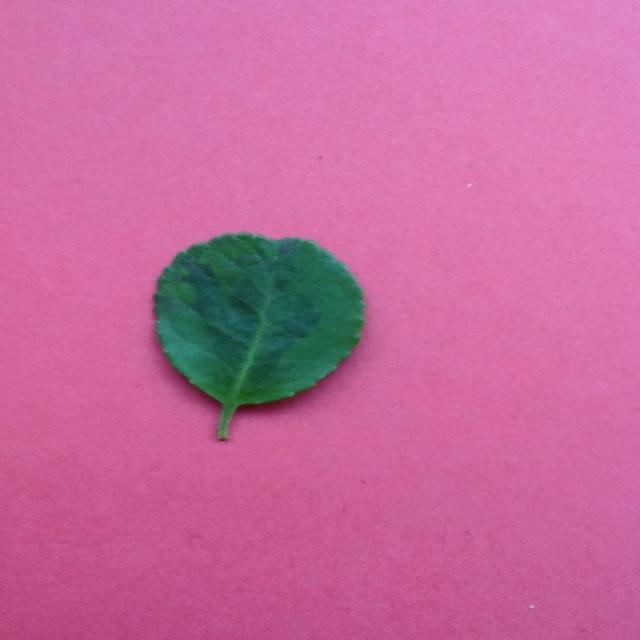foliage: (144, 228, 372, 448)
